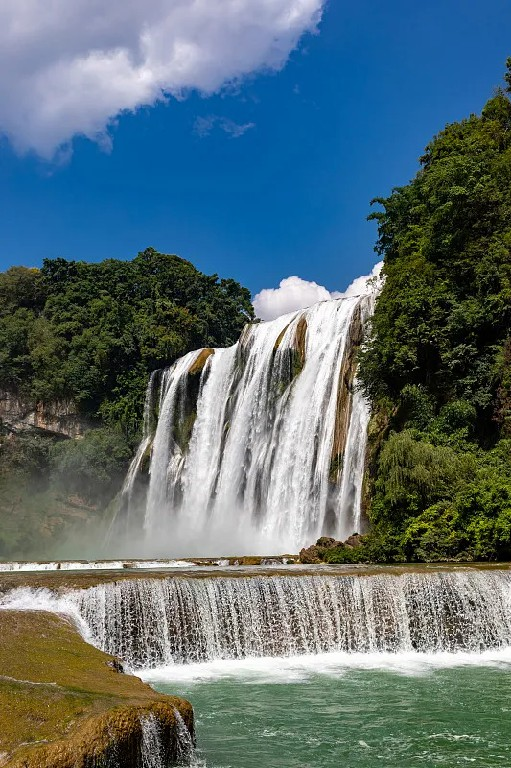Huangguoshu: (121, 296, 370, 554)
